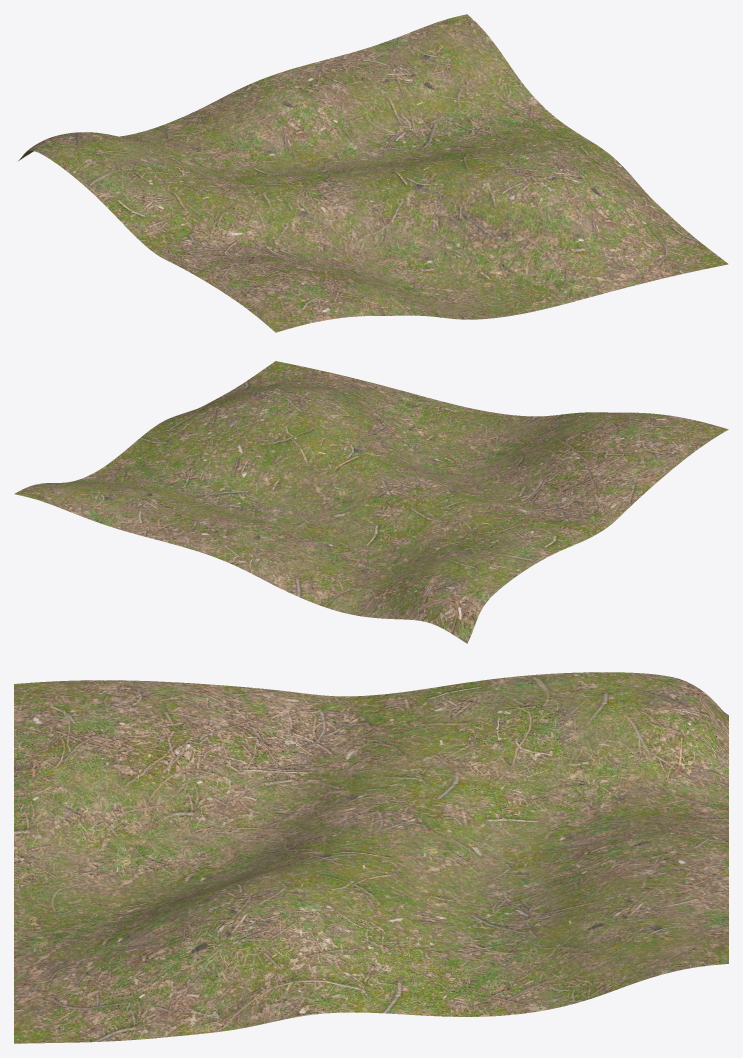
File: forest_terrain.dae
3 views of the same model, one above another, from view 1: azimuth 30°, elevation 25°; view 2: azimuth 150°, elevation 25°; view 3: azimuth 270°, elevation 25° (orthographic). The views are drawn at different scales.
Visible parts, largest first — view 1: Plane; view 2: Plane; view 3: Plane.
Part boxes in pixels (x1,y1,x2,y2): Plane: (18, 14, 728, 332); Plane: (14, 361, 728, 643); Plane: (14, 672, 728, 1043).
Bounding box in the file's own units: 12 × 12 × 1.48.
Materials: 1 (1 with a texture image).
